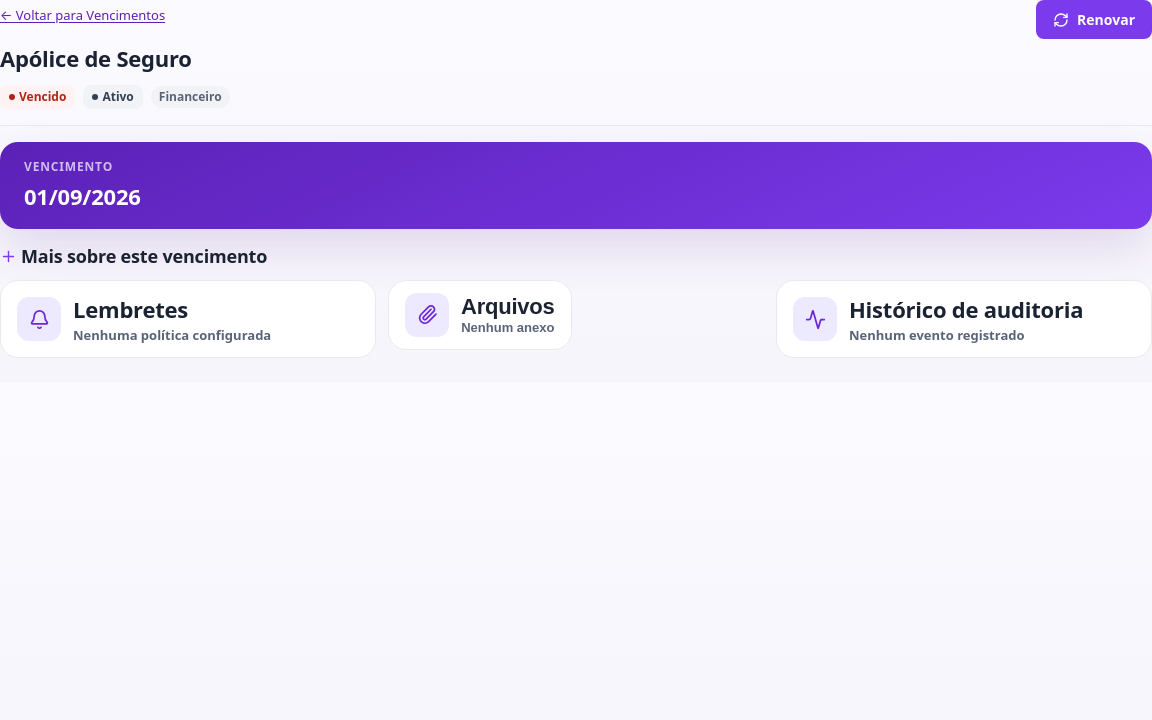
Scenario: ItemDetail › Block 2 (D-258): links to the Lembretes (A06), Arquivos (A07) and Histórico de auditoria entry points, all real routes now that discovery is unblocked
Expected: the heading "Apólice de Seguro" is shown, x1=0 y1=43 x2=192 y2=73
Expected: the text "Nenhum anexo" is shown, x1=461 y1=320 x2=555 y2=336
Note: Arquivos is a modal entry point now (Dialog, not a route) - a button, not a link.
Click the button "Arquivos Nenhum anexo": coordinates (480, 315) x1=388 y1=280 x2=572 y2=350
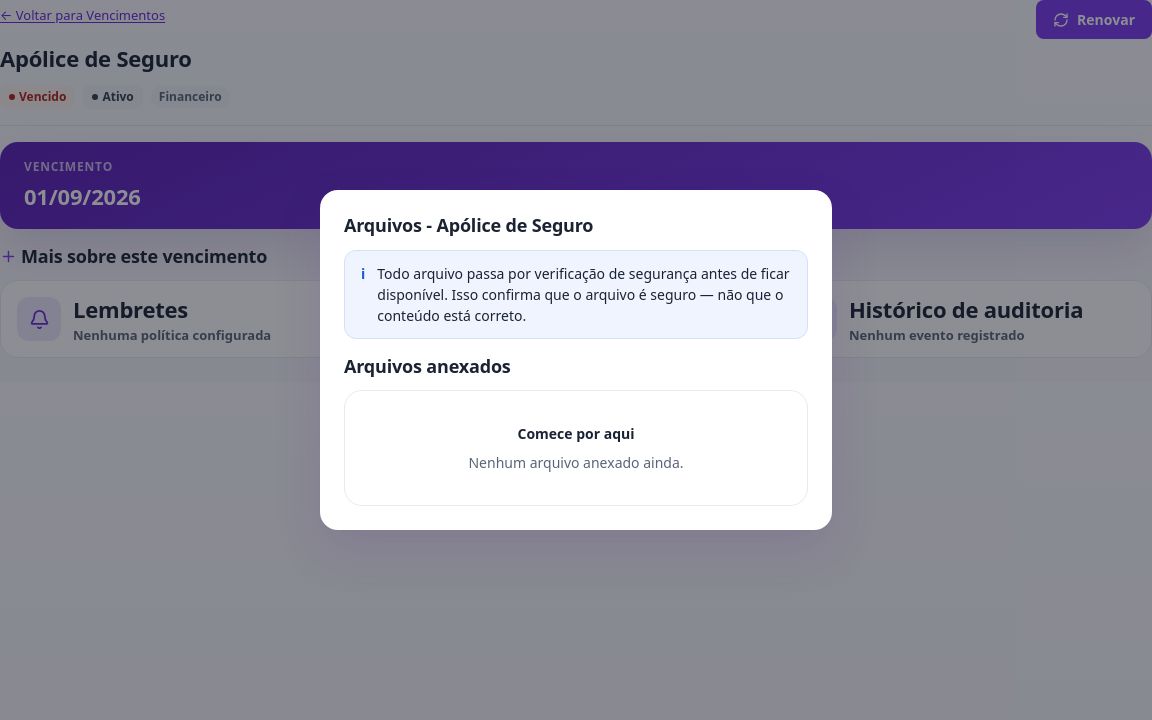
Now the dialog "Arquivos" is shown, box x1=320 y1=190 x2=832 y2=530
